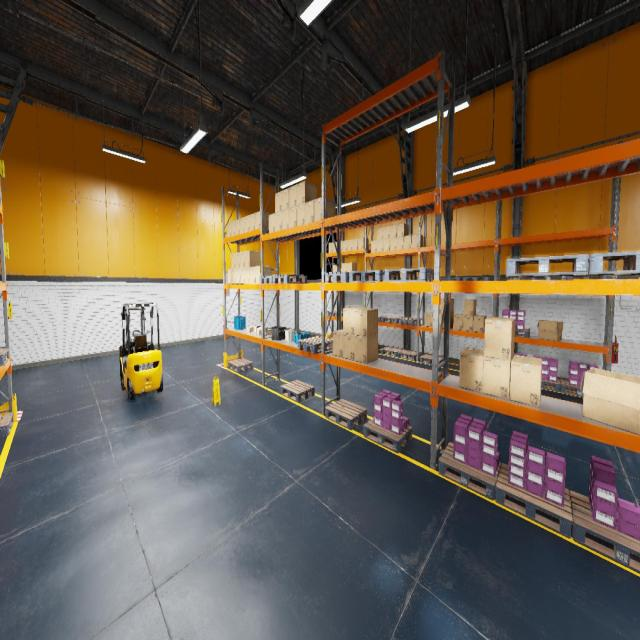box: (580, 368, 640, 435), (510, 355, 542, 407), (482, 355, 514, 399), (484, 316, 515, 361), (459, 347, 484, 393), (354, 334, 378, 363), (355, 308, 378, 337), (343, 307, 364, 335), (537, 320, 563, 341), (314, 197, 336, 221), (296, 181, 316, 205), (332, 330, 343, 358), (255, 211, 272, 229), (255, 266, 272, 284), (343, 334, 354, 360), (245, 250, 260, 267), (473, 314, 486, 332), (463, 300, 476, 316), (305, 200, 314, 223), (441, 299, 454, 314), (442, 313, 454, 329), (289, 205, 297, 228), (297, 203, 305, 225), (289, 184, 296, 208), (411, 234, 423, 248), (463, 316, 473, 332), (453, 314, 463, 330), (282, 209, 289, 229), (275, 211, 282, 231), (433, 299, 443, 313), (282, 188, 288, 210), (275, 191, 281, 213), (397, 224, 408, 236), (424, 312, 433, 326), (269, 213, 275, 233), (433, 313, 441, 328), (358, 238, 368, 249), (396, 237, 404, 250), (347, 262, 357, 272), (404, 235, 411, 249), (390, 225, 397, 238), (383, 238, 390, 251), (250, 212, 255, 230), (250, 266, 255, 283), (390, 238, 397, 250), (235, 218, 240, 234), (245, 268, 250, 284), (240, 268, 245, 284), (240, 252, 245, 268), (384, 226, 390, 239), (377, 239, 383, 252), (352, 238, 358, 250), (371, 240, 377, 252), (245, 215, 249, 232), (240, 217, 244, 233), (231, 220, 235, 236), (232, 268, 236, 284), (236, 252, 240, 268), (227, 222, 231, 237), (236, 268, 240, 283), (232, 253, 236, 268), (378, 227, 383, 239), (342, 240, 347, 251), (256, 329, 265, 335), (247, 326, 255, 332), (228, 268, 231, 284), (348, 239, 352, 251), (264, 329, 271, 335), (342, 263, 347, 271), (333, 242, 337, 252), (328, 242, 332, 252), (256, 325, 265, 329), (332, 265, 337, 272), (254, 326, 256, 332), (341, 241, 342, 251), (341, 263, 342, 272), (332, 276, 332, 281)
forklift: (120, 302, 163, 400)
pallets: (570, 491, 640, 573), (496, 463, 572, 538), (438, 442, 501, 500), (506, 254, 588, 277), (364, 418, 412, 453), (584, 250, 640, 276), (325, 398, 367, 429), (281, 380, 314, 402), (384, 268, 434, 281), (297, 336, 332, 354), (560, 379, 584, 397), (349, 270, 384, 282), (325, 271, 356, 282), (0, 412, 13, 438), (228, 359, 253, 372), (273, 274, 307, 283), (542, 377, 560, 392), (397, 350, 420, 360), (420, 354, 443, 364), (381, 346, 403, 356), (0, 348, 9, 366), (515, 328, 530, 338), (382, 316, 403, 323), (399, 318, 420, 325), (532, 276, 566, 280), (259, 275, 275, 283), (566, 276, 608, 279), (328, 311, 343, 317), (378, 315, 386, 322), (463, 278, 490, 280)
